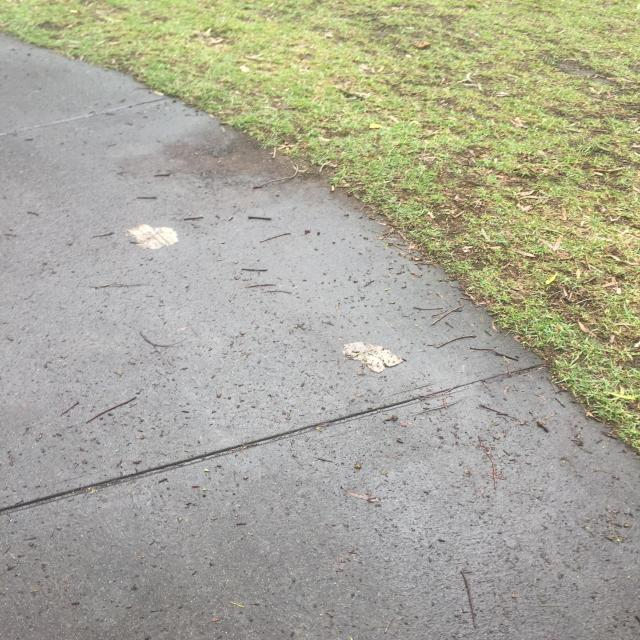litter: (343, 341, 405, 373), (125, 225, 177, 248)
